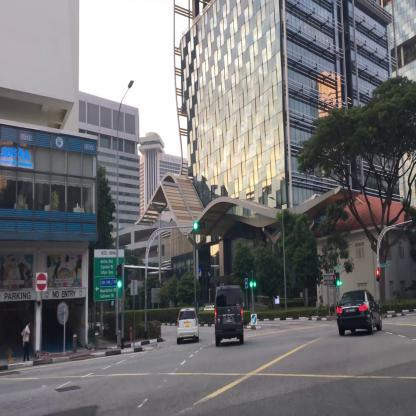green_traffic_light: (117, 265, 122, 288), (193, 222, 205, 229)
